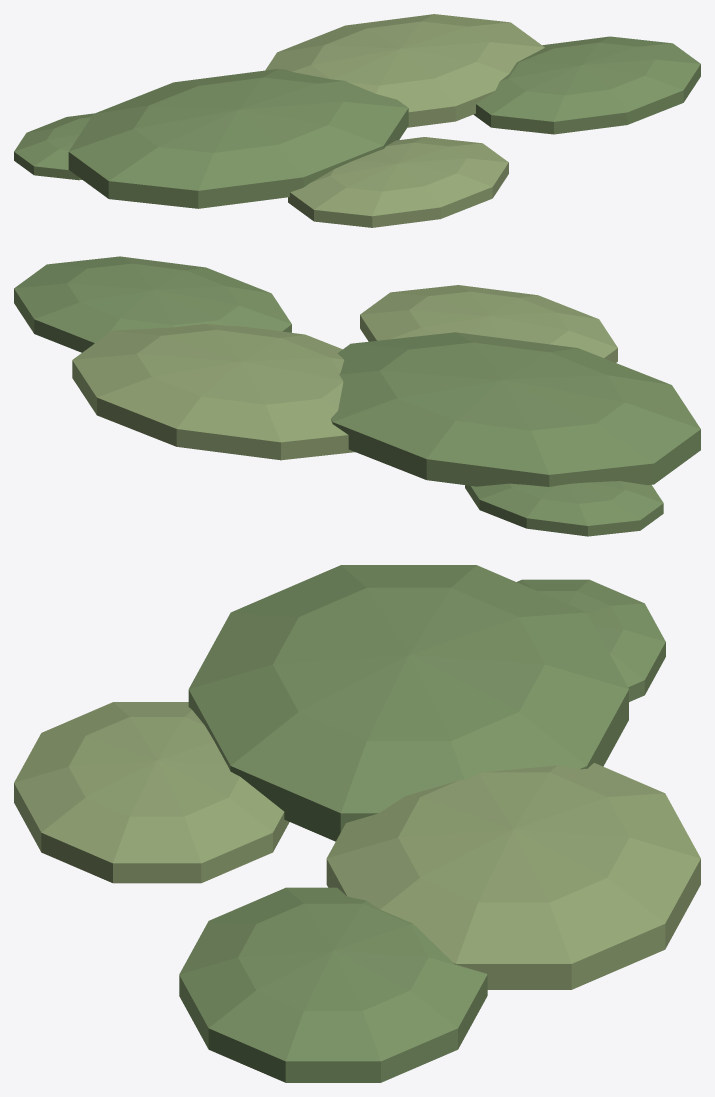
Rendered from woodland-moss-patch-01.glb.
3 renders of one model, top to bottom at view 1: azimuth 30°, elevation 25°; view 2: azimuth 150°, elevation 25°; view 3: azimuth 270°, elevation 25°, orthographic. The views are drawn at different scales.
Parts seen in each view (by area): view 1: woodland-moss-patch-01; view 2: woodland-moss-patch-01; view 3: woodland-moss-patch-01.
Boxes of the visible parts, x1=… form: woodland-moss-patch-01: x1=14, y1=14, x2=700, y2=227; woodland-moss-patch-01: x1=14, y1=256, x2=700, y2=536; woodland-moss-patch-01: x1=14, y1=565, x2=700, y2=1082.
Size of the model in its own units: 0.279 by 0.026 by 0.1638.
